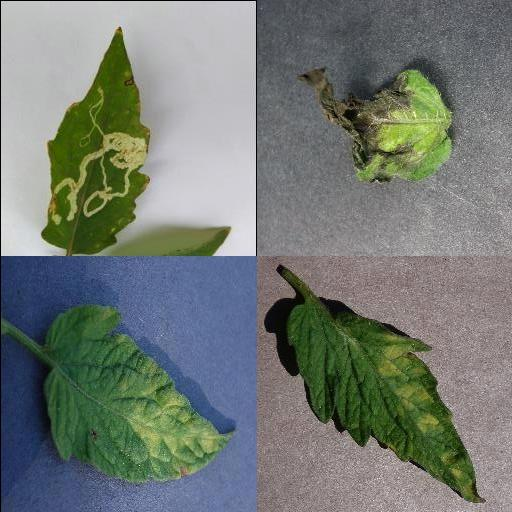Late Blight: (293, 67, 453, 187)
Leaf Miner: (39, 23, 152, 256)
Leaf Mold: (284, 301, 486, 503), (41, 305, 239, 484)
